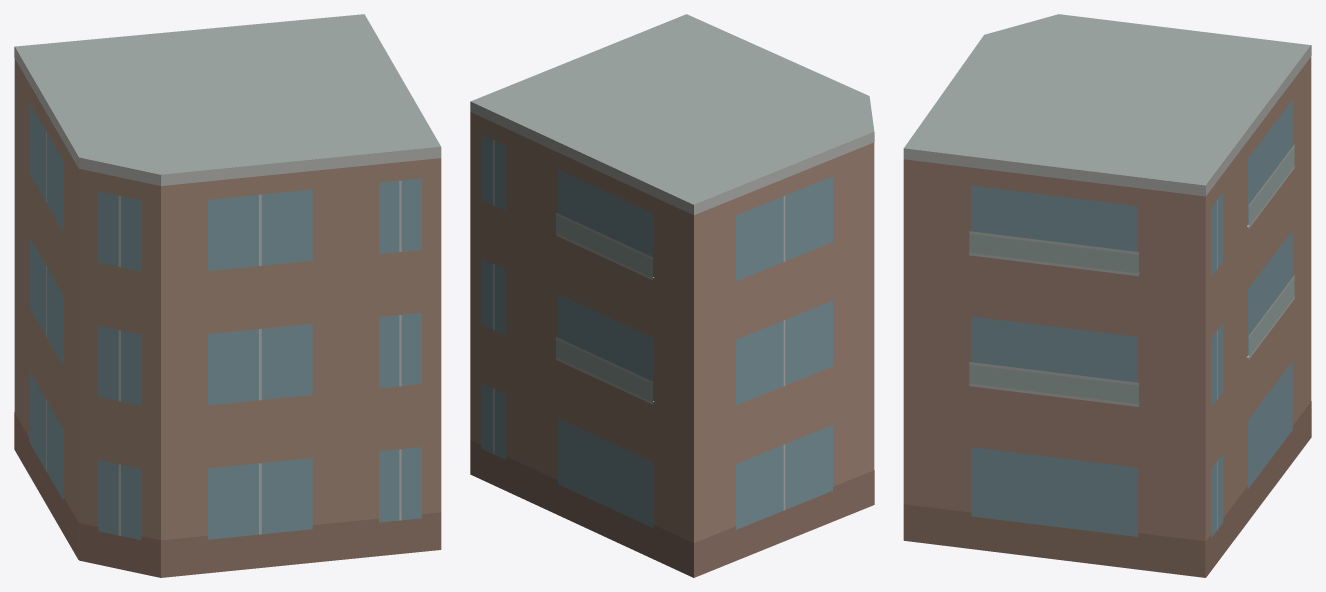
File: survey-upis-32690326.glb
The picture shows the model from 3 angles, left to right: view 1: azimuth 30°, elevation 25°; view 2: azimuth 150°, elevation 25°; view 3: azimuth 270°, elevation 25°; orthographic projection. The views are drawn at different scales.
Visible parts, largest first — view 1: survey-upis-32690326.tmp; view 2: survey-upis-32690326.tmp; view 3: survey-upis-32690326.tmp.
Part boxes in pixels (box(x1,y1,x2,y2)): survey-upis-32690326.tmp: box(14, 14, 441, 577); survey-upis-32690326.tmp: box(470, 14, 874, 577); survey-upis-32690326.tmp: box(903, 14, 1311, 577).
Size of the model in its own units: 8.22 by 8.75 by 8.25.
